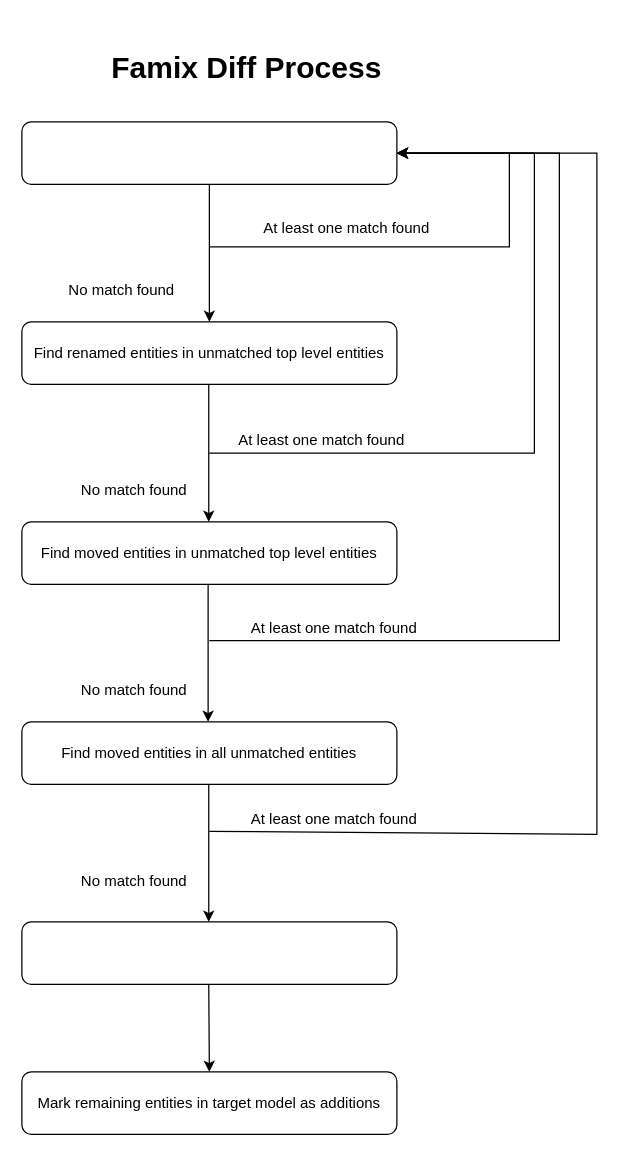
Image size: 629x1156. Some labels were removed from this diagram. The centre of each missing label's shape, as x and y in pixels:
"Find identic entities in unmatched top level entities" belongs at [209,152].
"Mark remaining entities in base model as removals" belongs at [209,952].
